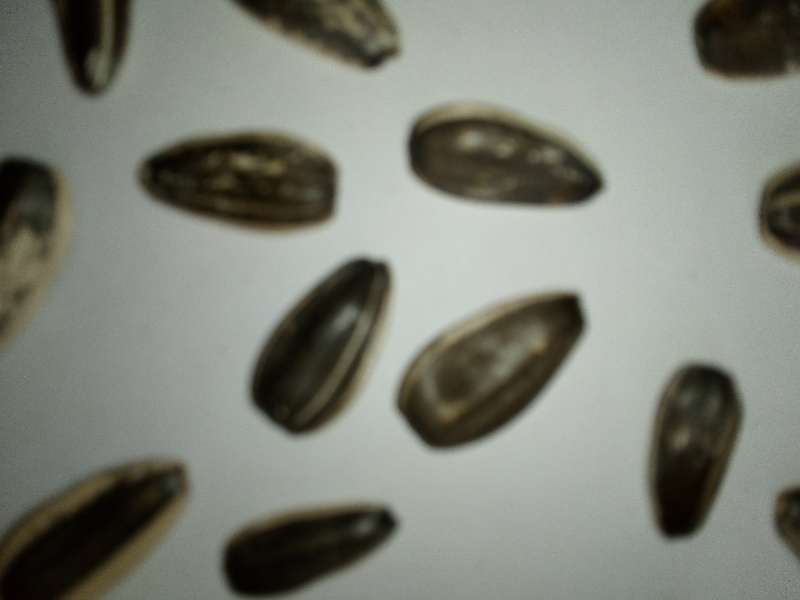w: (219, 251, 391, 443), (397, 91, 619, 221), (125, 126, 357, 244), (631, 344, 748, 550)
